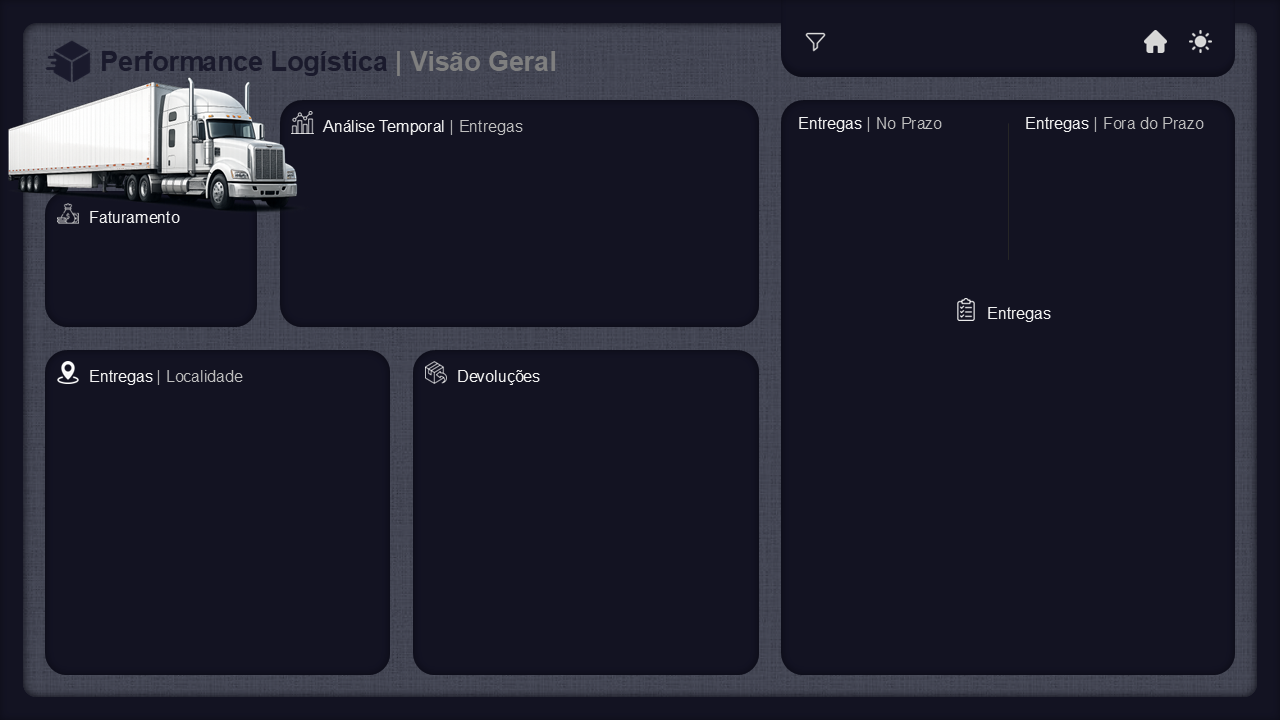

The page's visual inventory and layout, read from the dashboard file:
{"tool":"powerbi","page":{"name":"visao-geral-dark","canvas":[1280,720],"ordinal":1},"visuals":[{"type":"card","fields":{"Values":["Medidas.Pedidos no Prazo"]},"box":[826,290,153.2,33.3],"z":2000},{"type":"areaChart","title":"Quantidade de Pedidos por Mês","fields":{"Category":["dCalendario.mes_abreviado"],"Y":["Tabela.Quantidade de Pedidos","Medidas.Pedidos no Prazo","Medidas.Pedidos Atrasados"]},"box":[279.2,135.7,478.4,190.6],"z":5000},{"type":"donutChart","fields":{"Category":["dimensao_motivo_devolucao.motivo_devolucao"],"Y":["Medidas.Quantidade de Pedidos"]},"box":[412,386.4,348,208.2],"z":6000},{"type":"payPalKPIDonutChart55A431AB15A540ED924ACD72ED8D259F","title":"Pedidos Atrasados","fields":{"myvalue":["Medidas.% Pedidos Atrasados"]},"box":[1016,134,200,160],"z":7000},{"type":"payPalKPIDonutChart55A431AB15A540ED924ACD72ED8D259F","title":"Pedidos no Prazo","fields":{"myvalue":["Medidas.% Pedidos no Prazo"]},"box":[800,134,200,160],"z":8000},{"type":"advancedSlicerVisual","fields":{"Values":["dCalendario.ano"]},"box":[844.7,18,276.1,50.2],"z":9000},{"type":"shapeMap","fields":{"Category":["dimensao_estados_brasileiros.uf"],"Value":["Medidas.pedidos"]},"box":[44,386,346,290],"z":10000},{"type":"card","fields":{"Values":["Medidas.Pedidos Atrasados"]},"box":[1036,290,153.2,33.3],"z":11000},{"type":"card","fields":{"Values":["Medidas.Quantidade de Pedidos"]},"box":[932,248,152.9,56],"z":12000},{"type":"clusteredColumnChart","fields":{"Category":["dimensao_status.status"],"Series":["dimensao_veiculos.tipo_bau"],"Y":["Medidas.Quantidade de Pedidos"]},"box":[780,338,260,334],"z":13000},{"type":"clusteredColumnChart","fields":{"Category":["dimensao_status.status"],"Series":["dimensao_veiculos.tipo_bau"],"Y":["Medidas.Quantidade de Pedidos"]},"box":[976,338,260,334],"z":14000},{"type":"card","fields":{"Values":["Medidas.Devoluções"]},"box":[509,462.2,153.5,55.6],"z":14001},{"type":"cardVisual","fields":{"Data":["Medidas.Desistência"]},"box":[412,574,216.1,38],"z":14002},{"type":"cardVisual","fields":{"Data":["Medidas.Mercadoria Errada"]},"box":[412,604,216.1,38],"z":14003},{"type":"cardVisual","fields":{"Data":["Medidas.Nota Fiscal com Erro"]},"box":[412,634,216.1,38],"z":14004},{"type":"cardVisual","fields":{"Data":["Medidas.Valor do Frete"]},"box":[44.3,216,214,114],"z":14005},{"type":"actionButton","box":[1136,22.7,40,40],"z":14006},{"type":"actionButton","box":[1181.2,22.7,40,40],"z":14007}]}

Visuals, with their boxes in screenshot pixels (x1, y1, x2, y2), scaled from the page's 1280x720 canvas onto the 1280x720 screenshot:
card - Medidas.Pedidos no Prazo: box=[826, 290, 979, 323]
"Quantidade de Pedidos por Mês" areaChart: box=[279, 136, 758, 326]
donutChart - dimensao_motivo_devolucao.motivo_devolucao x Medidas.Quantidade de Pedidos: box=[412, 386, 760, 595]
"Pedidos Atrasados" payPalKPIDonutChart55A431AB15A540ED924ACD72ED8D259F: box=[1016, 134, 1216, 294]
"Pedidos no Prazo" payPalKPIDonutChart55A431AB15A540ED924ACD72ED8D259F: box=[800, 134, 1000, 294]
advancedSlicerVisual - dCalendario.ano: box=[845, 18, 1121, 68]
shapeMap - dimensao_estados_brasileiros.uf x Medidas.pedidos: box=[44, 386, 390, 676]
card - Medidas.Pedidos Atrasados: box=[1036, 290, 1189, 323]
card - Medidas.Quantidade de Pedidos: box=[932, 248, 1085, 304]
clusteredColumnChart - dimensao_status.status x dimensao_veiculos.tipo_bau: box=[780, 338, 1040, 672]
clusteredColumnChart - dimensao_status.status x dimensao_veiculos.tipo_bau: box=[976, 338, 1236, 672]
card - Medidas.Devoluções: box=[509, 462, 662, 518]
cardVisual - Medidas.Desistência: box=[412, 574, 628, 612]
cardVisual - Medidas.Mercadoria Errada: box=[412, 604, 628, 642]
cardVisual - Medidas.Nota Fiscal com Erro: box=[412, 634, 628, 672]
cardVisual - Medidas.Valor do Frete: box=[44, 216, 258, 330]
actionButton: box=[1136, 23, 1176, 63]
actionButton: box=[1181, 23, 1221, 63]
